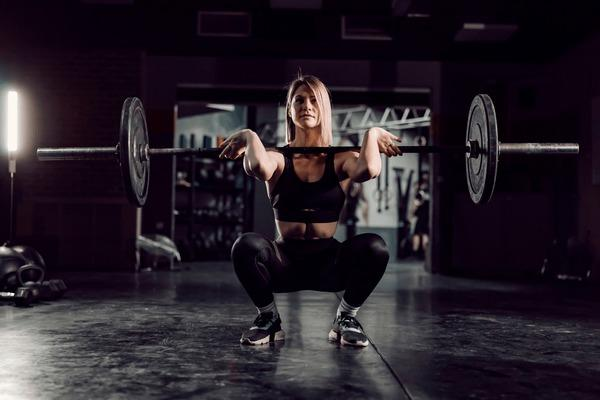Squat: (221, 73, 402, 349)
